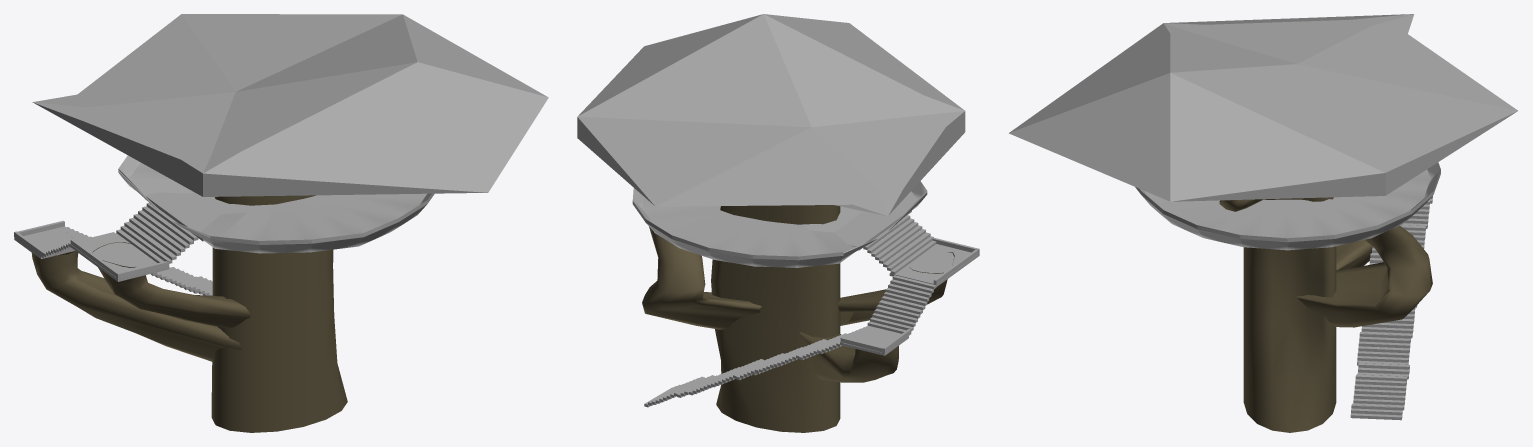
File: TEMPEL2.fbx
3 renders of one model, left to right at view 1: azimuth 30°, elevation 25°; view 2: azimuth 150°, elevation 25°; view 3: azimuth 270°, elevation 25°, orthographic. The views are drawn at different scales.
Parts seen in each view (by area): view 1: DAK0, nurbsToSubd2, Plat, nurbsCylinder11, nurbsToSubd4, nurbsToSubd7; view 2: DAK0, nurbsToSubd2, nurbsCylinder11, Plat, nurbsToSubd3, nurbsToSubd4, nurbsToSubd7; view 3: DAK0, nurbsToSubd2, Plat, nurbsToSubd3, nurbsCylinder11, nurbsToSubd4.
Boxes of the visible parts, x1,y1,x2,y2 form: DAK0: [32, 14, 548, 196]; nurbsToSubd2: [211, 195, 347, 432]; Plat: [118, 155, 434, 253]; nurbsCylinder11: [14, 192, 220, 295]; nurbsToSubd4: [31, 251, 242, 361]; nurbsToSubd7: [92, 242, 250, 328]; DAK0: [577, 14, 965, 216]; nurbsToSubd2: [711, 205, 840, 432]; nurbsCylinder11: [644, 210, 979, 407]; Plat: [632, 181, 927, 267]; nurbsToSubd3: [642, 227, 761, 329]; nurbsToSubd4: [799, 332, 898, 382]; nurbsToSubd7: [838, 252, 954, 325]; DAK0: [1009, 14, 1517, 201]; nurbsToSubd2: [1243, 197, 1336, 432]; Plat: [1135, 162, 1440, 250]; nurbsToSubd3: [1296, 225, 1432, 327]; nurbsCylinder11: [1350, 196, 1432, 420]; nurbsToSubd4: [1336, 240, 1372, 270].
Bounding box in the file's own units: 172 × 153 × 193.
